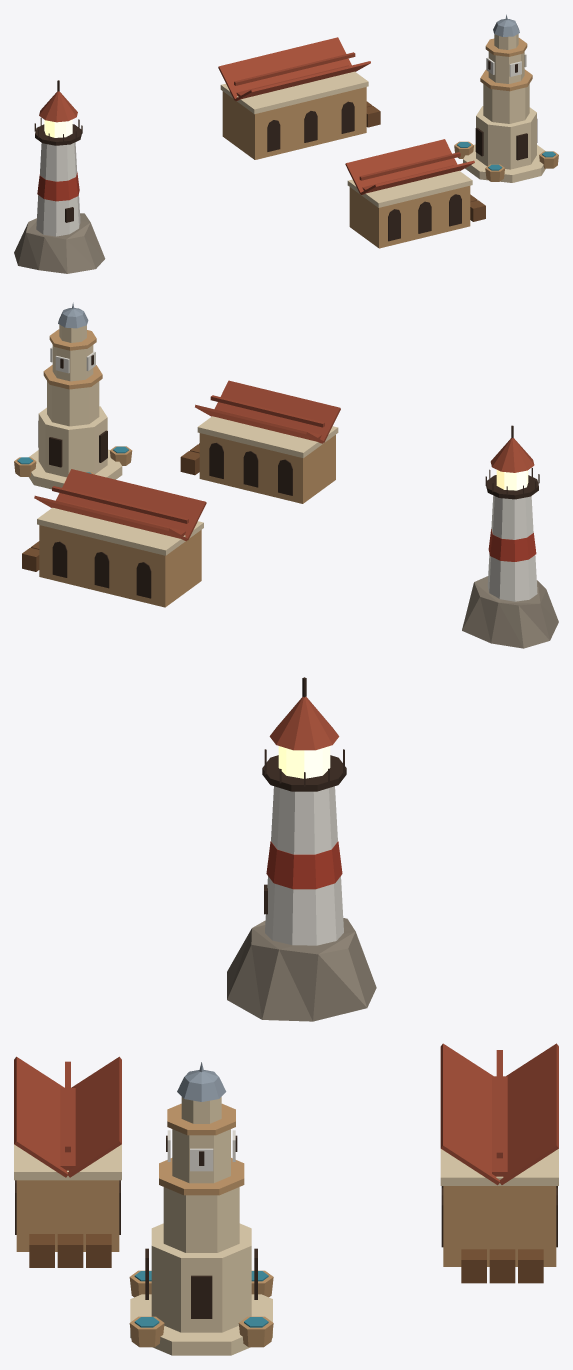
The model's file is izmir.glb.
3 renders of one model, top to bottom at view 1: azimuth 30°, elevation 25°; view 2: azimuth 150°, elevation 25°; view 3: azimuth 270°, elevation 25°, orthographic. The views are drawn at different scales.
Parts seen in each view (by area): view 1: ambar_a, ambar_b, saat_kulesi, fener; view 2: ambar_a, ambar_b, fener, saat_kulesi; view 3: fener, saat_kulesi, ambar_a, ambar_b.
Boxes of the visible parts, x1=… form: ambar_a: x1=218, y1=37, x2=380, y2=159; ambar_b: x1=345, y1=139, x2=485, y2=248; saat_kulesi: x1=454, y1=14, x2=558, y2=182; fener: x1=14, y1=80, x2=105, y2=273; ambar_a: x1=22, y1=469, x2=206, y2=607; ambar_b: x1=180, y1=380, x2=340, y2=503; fener: x1=462, y1=425, x2=558, y2=648; saat_kulesi: x1=14, y1=302, x2=132, y2=489; fener: x1=227, y1=677, x2=376, y2=1021; saat_kulesi: x1=129, y1=1062, x2=273, y2=1355; ambar_a: x1=440, y1=1043, x2=558, y2=1283; ambar_b: x1=14, y1=1056, x2=121, y2=1267.
Bounding box in the file's own units: 19.34 × 6.73 × 10.6.
